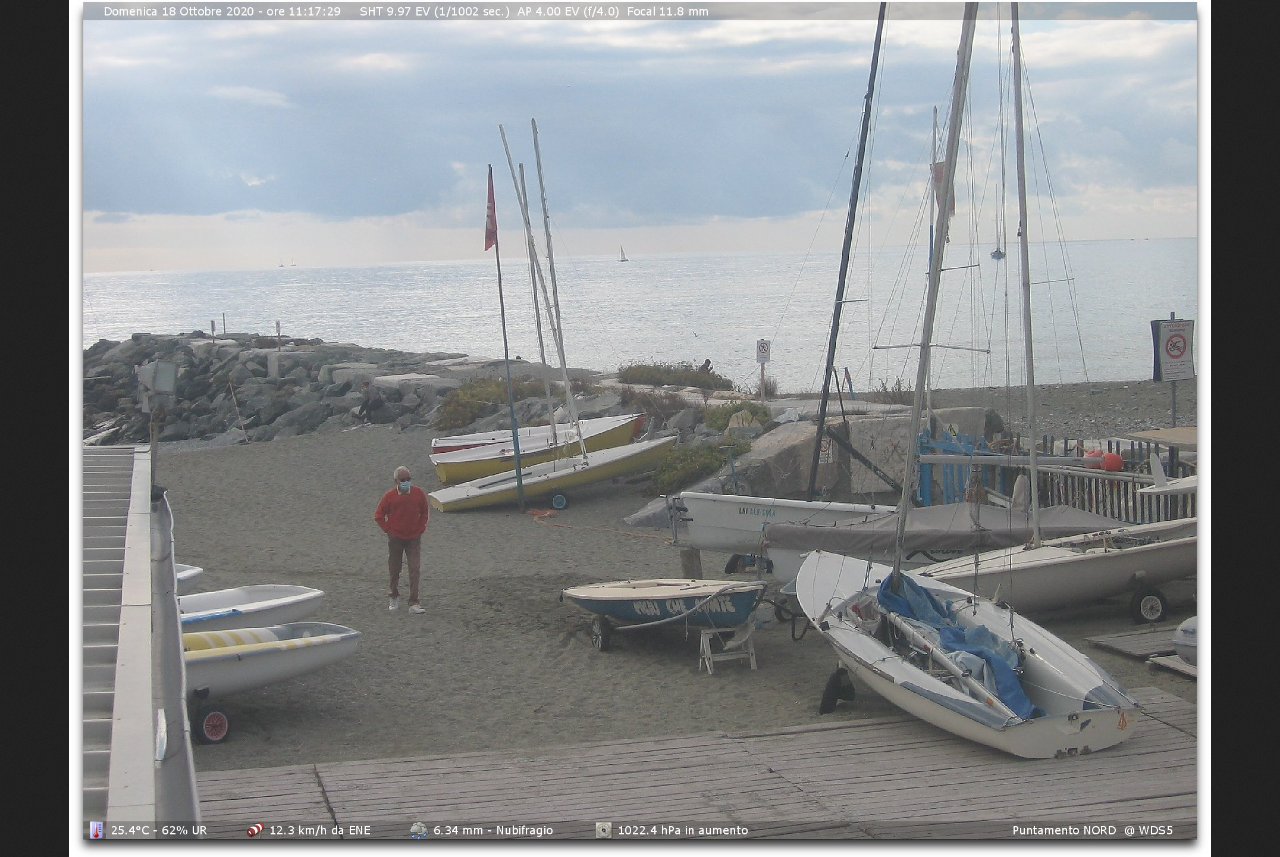no: (481, 166, 502, 256)
